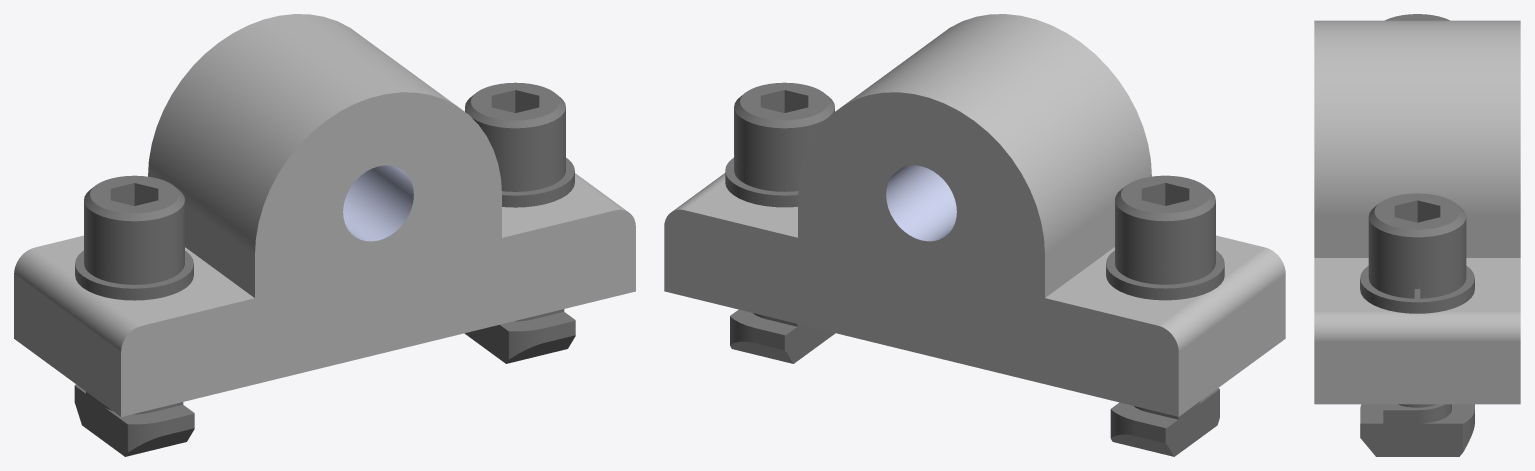
Rendered from TPFQ-TPFQ-206-2020-M8-ZP.glb.
The picture shows the model from 3 angles, left to right: view 1: azimuth 30°, elevation 25°; view 2: azimuth 150°, elevation 25°; view 3: azimuth 270°, elevation 25°; orthographic projection. The views are drawn at different scales.
Visible parts, largest first — view 1: NAUO1, NAUO4, NAUO2, NAUO5, NAUO3; view 2: NAUO1, NAUO4, NAUO2, NAUO5, NAUO3; view 3: NAUO1, NAUO2, NAUO3, NAUO4.
Part boxes in pixels (x1,y1,x2,y2): NAUO1: [14, 14, 635, 416]; NAUO4: [75, 175, 193, 300]; NAUO2: [465, 82, 574, 207]; NAUO5: [74, 384, 194, 456]; NAUO3: [464, 309, 575, 363]; NAUO1: [664, 14, 1285, 416]; NAUO4: [1106, 175, 1224, 300]; NAUO2: [725, 82, 834, 207]; NAUO5: [1110, 388, 1219, 456]; NAUO3: [730, 309, 835, 363]; NAUO1: [1314, 20, 1520, 404]; NAUO2: [1360, 193, 1474, 407]; NAUO3: [1360, 404, 1474, 456]; NAUO4: [1385, 14, 1449, 20].
Size of the model in its own units: 0.05 by 0.0307 by 0.018.
